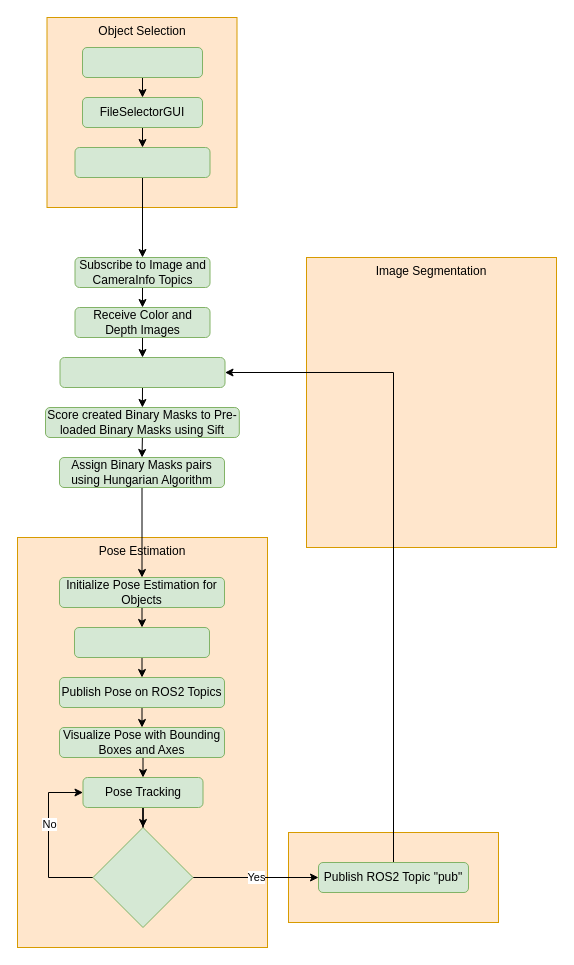
Image size: 574x965. Some labels were removed from this diagram. The shapes that lost their labels are listed below. From the top down, each one's box as (x1, y1, x2, y2) in pixels, then its label:
(82, 46, 202, 78): Start
(74, 146, 210, 178): Load Object Files (3D and Binary Masks)
(59, 356, 225, 388): Segment Binary Masks using SAM from Camera Image
(74, 626, 210, 658): Perform Pose Estimation
(92, 826, 193, 928): Reinitialize?
(288, 832, 498, 922): Reinitialization
